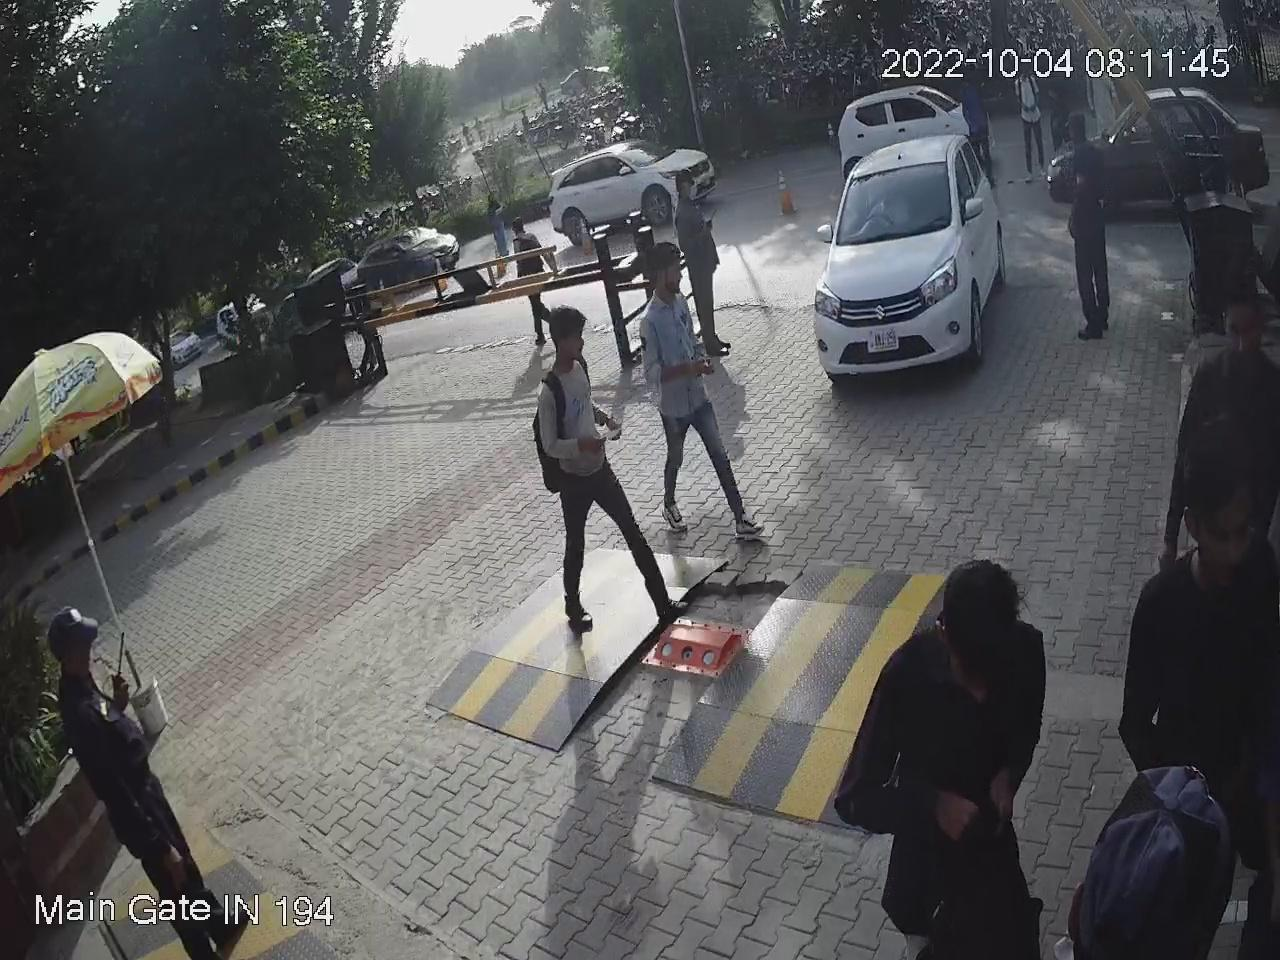windshield: (830, 157, 955, 247)
